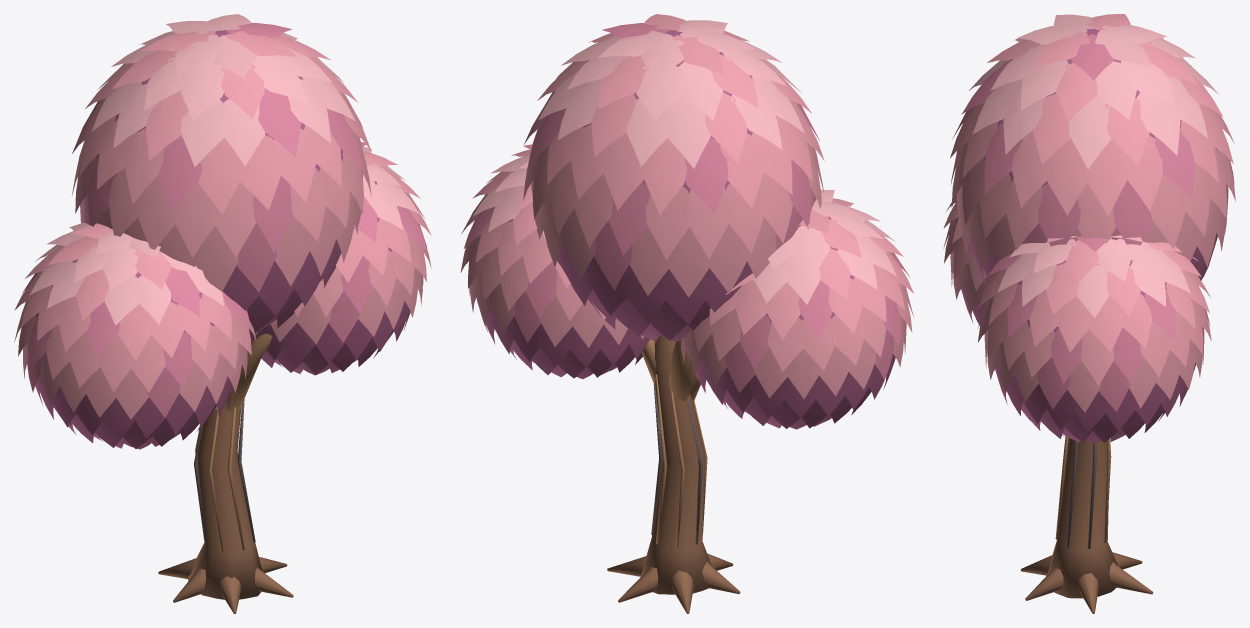
Rendered from SM_SF_PinkTree_03.fbx.
3 renders of one model, left to right at view 1: azimuth 30°, elevation 25°; view 2: azimuth 150°, elevation 25°; view 3: azimuth 270°, elevation 25°, orthographic.
Visible parts, largest first — view 1: SM_SF_PinkTree_03; view 2: SM_SF_PinkTree_03; view 3: SM_SF_PinkTree_03.
Boxes of the visible parts, x1,y1,x2,y2 form: SM_SF_PinkTree_03: [14, 14, 431, 613]; SM_SF_PinkTree_03: [460, 14, 914, 613]; SM_SF_PinkTree_03: [943, 14, 1235, 613].
Bounding box in the file's own units: 5.18 × 3.25 × 6.75.
